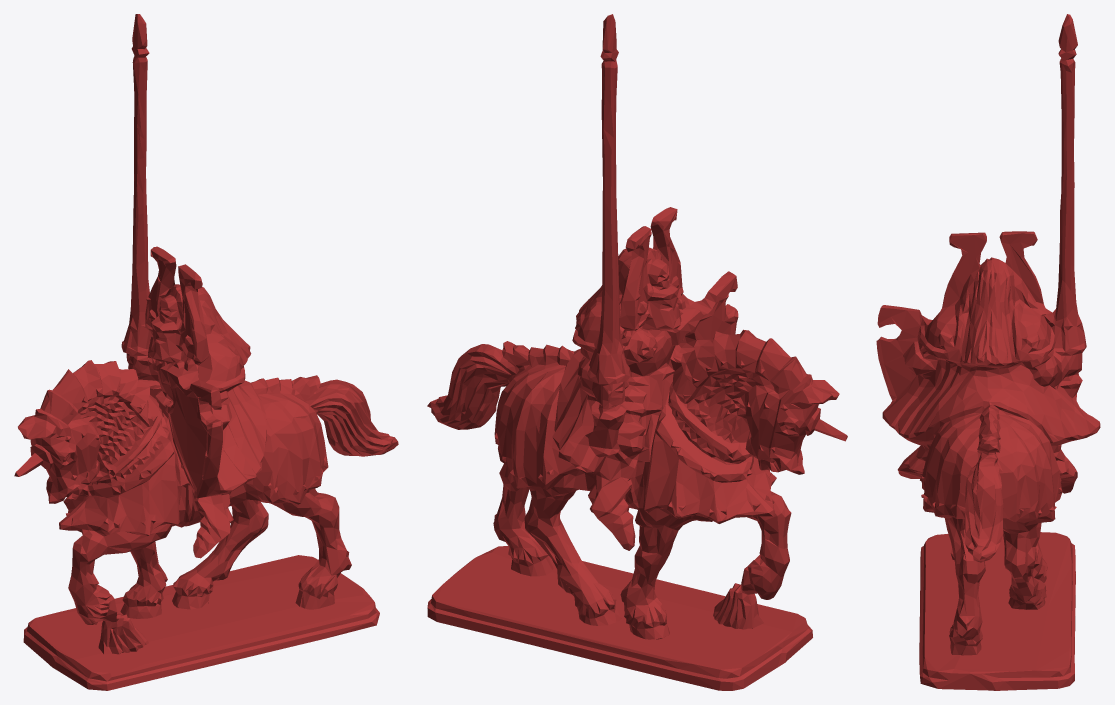
File: champions_of_chaos.glb
3 views of the same model, side by side, from view 1: azimuth 30°, elevation 25°; view 2: azimuth 150°, elevation 25°; view 3: azimuth 270°, elevation 25° (orthographic). The views are drawn at different scales.
Parts seen in each view (by area): view 1: Champions_of_Chaos_Solid_Chaos_Army; view 2: Champions_of_Chaos_Solid_Chaos_Army; view 3: Champions_of_Chaos_Solid_Chaos_Army.
Boxes of the visible parts, x1,y1,x2,y2 form: Champions_of_Chaos_Solid_Chaos_Army: (14, 14, 398, 690); Champions_of_Chaos_Solid_Chaos_Army: (427, 14, 847, 690); Champions_of_Chaos_Solid_Chaos_Army: (876, 14, 1100, 690).
Size of the model in its own units: 34.99 by 51.85 by 17.84.
